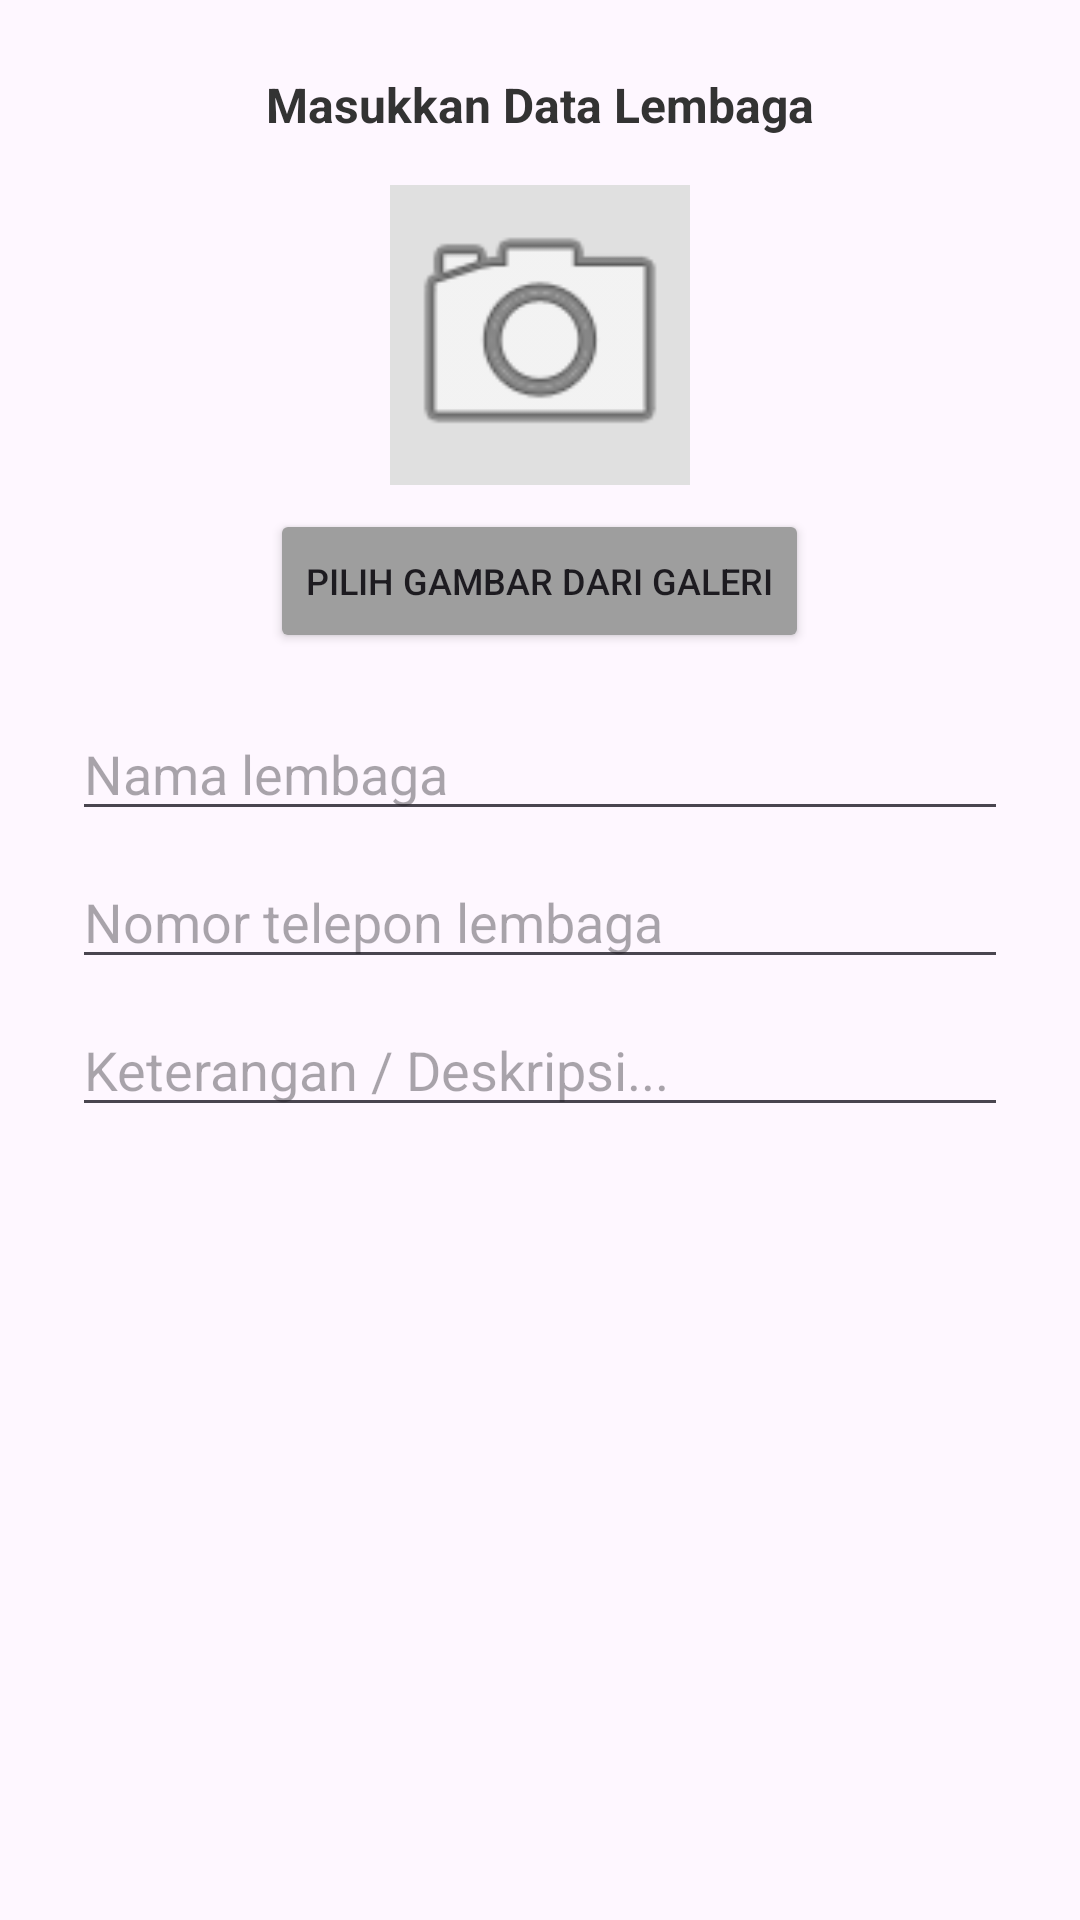

Icon bounding boxes for this 1080 x 1920 phone screenshot, format detection(x1, y1, x2, y2):
camera: detection(390, 185, 690, 485)
